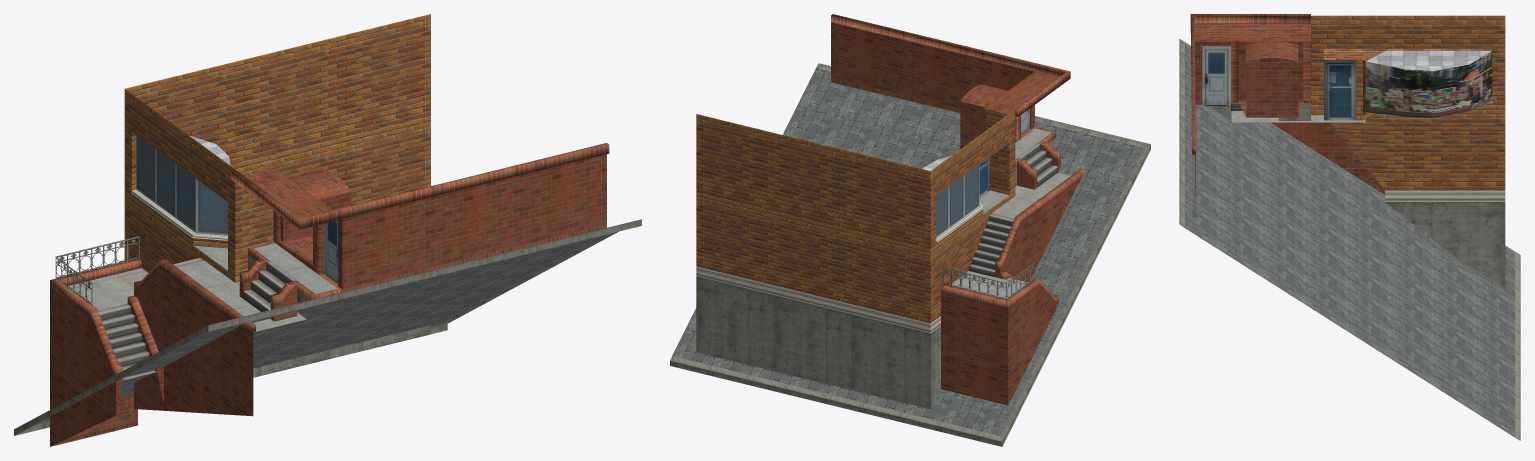
The model's file is MHouseA_Base_35.fbx.
The picture shows the model from 3 angles, left to right: view 1: azimuth 30°, elevation 25°; view 2: azimuth 150°, elevation 25°; view 3: azimuth 270°, elevation 25°; orthographic projection. The views are drawn at different scales.
Visible parts, largest first — view 1: ct2_01_m1_ks2_MhouseBaseA35_R_26; view 2: ct2_01_m1_ks2_MhouseBaseA35_R_26; view 3: ct2_01_m1_ks2_MhouseBaseA35_R_26.
Part boxes in pixels (left/top/right/bottom): ct2_01_m1_ks2_MhouseBaseA35_R_26: left=14, top=14, right=641, bottom=446; ct2_01_m1_ks2_MhouseBaseA35_R_26: left=670, top=14, right=1150, bottom=446; ct2_01_m1_ks2_MhouseBaseA35_R_26: left=1179, top=14, right=1520, bottom=440.
Bounding box in the file's own units: 1871 × 1355 × 1450.
